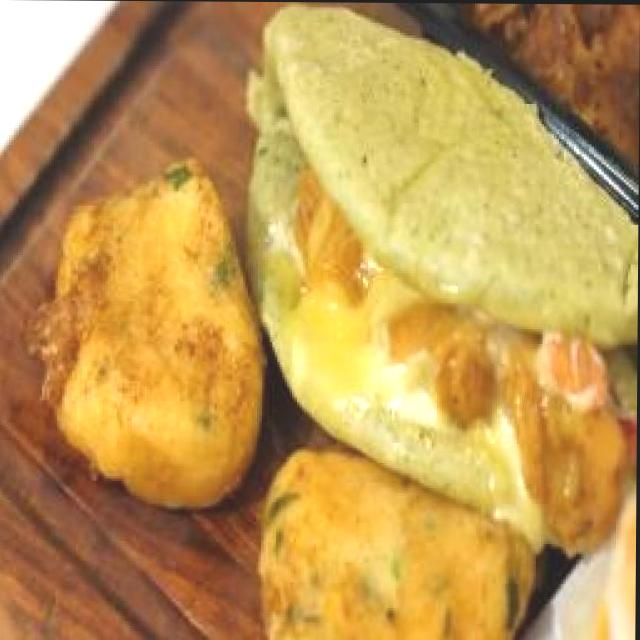mango chicken pocket: (239, 4, 640, 537)
perkedel: (32, 118, 257, 500), (249, 433, 545, 640)
